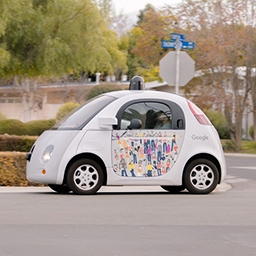car: (25, 80, 228, 196)
